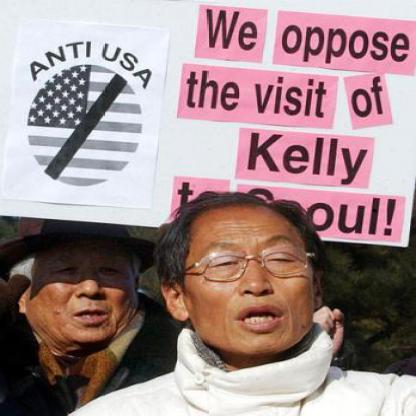face: (181, 197, 323, 360), (26, 210, 145, 346)
